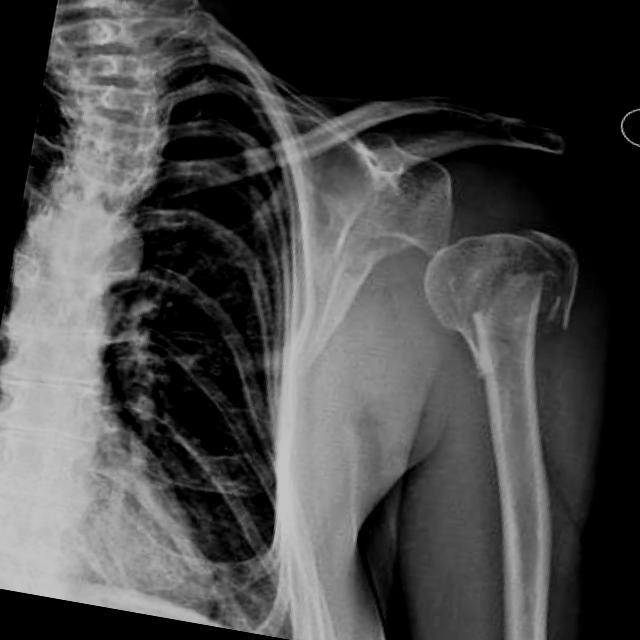Fracture Dislocation: (433, 93, 571, 264)
